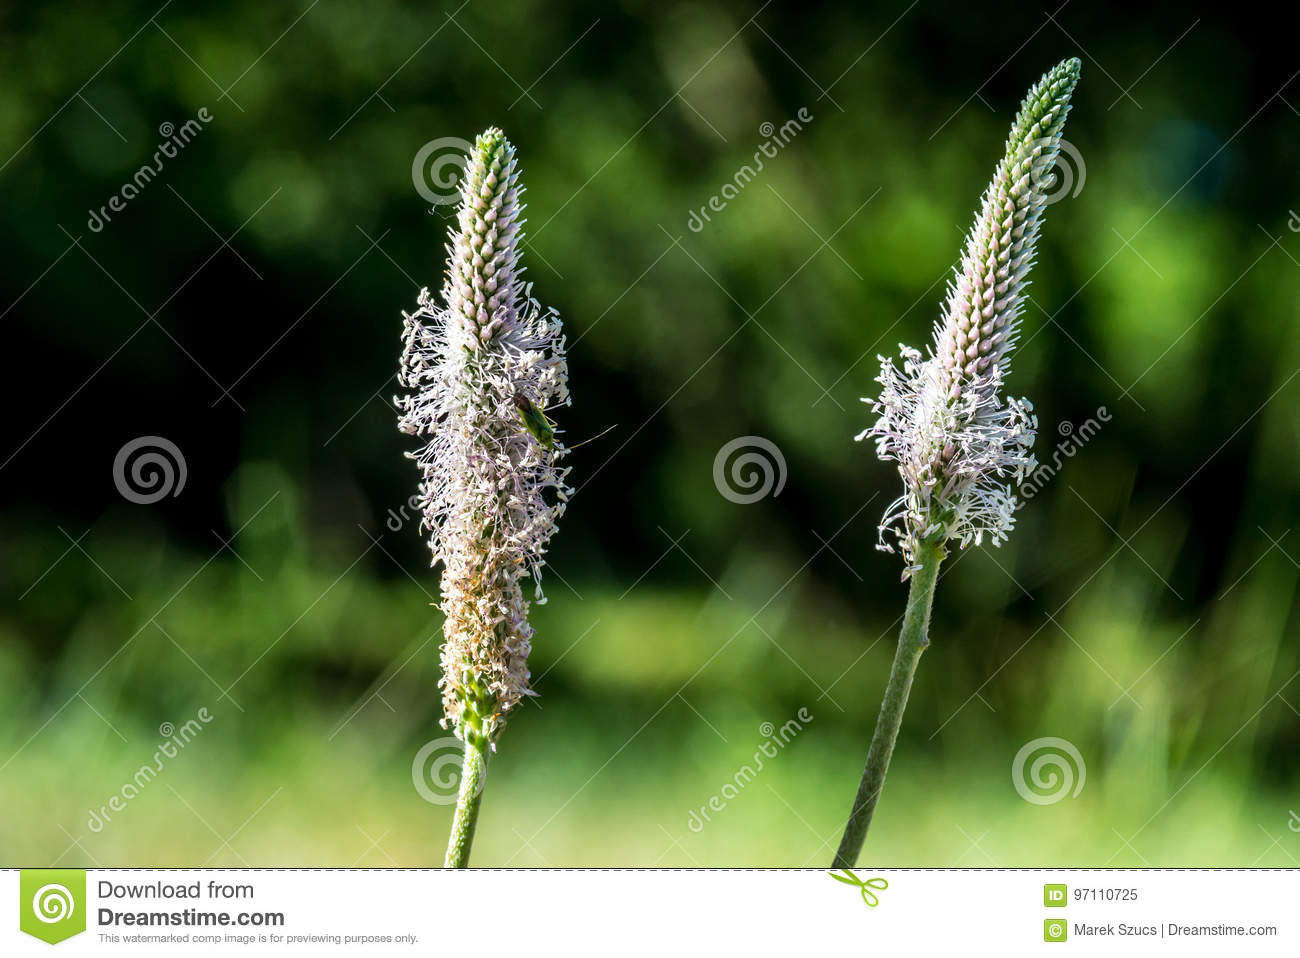buckhorn plantain: (842, 29, 1073, 801), (367, 93, 603, 850)
